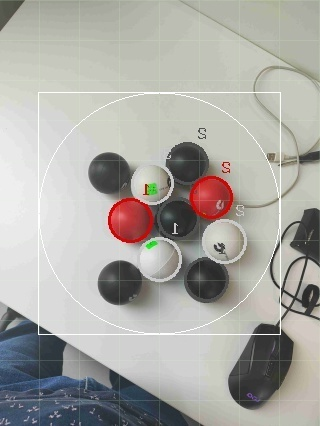Pelota blanca: (252, 63, 320, 160), (282, 254, 320, 318), (138, 236, 185, 283), (202, 217, 249, 264), (98, 260, 145, 307), (130, 161, 175, 206), (0, 0, 25, 33)
Pelota negra: (0, 334, 191, 425), (228, 329, 294, 411), (183, 257, 230, 304), (98, 260, 145, 307), (87, 150, 132, 195), (165, 140, 209, 184), (157, 198, 199, 240)
Pelota roja: (106, 196, 156, 243), (189, 174, 236, 219)
